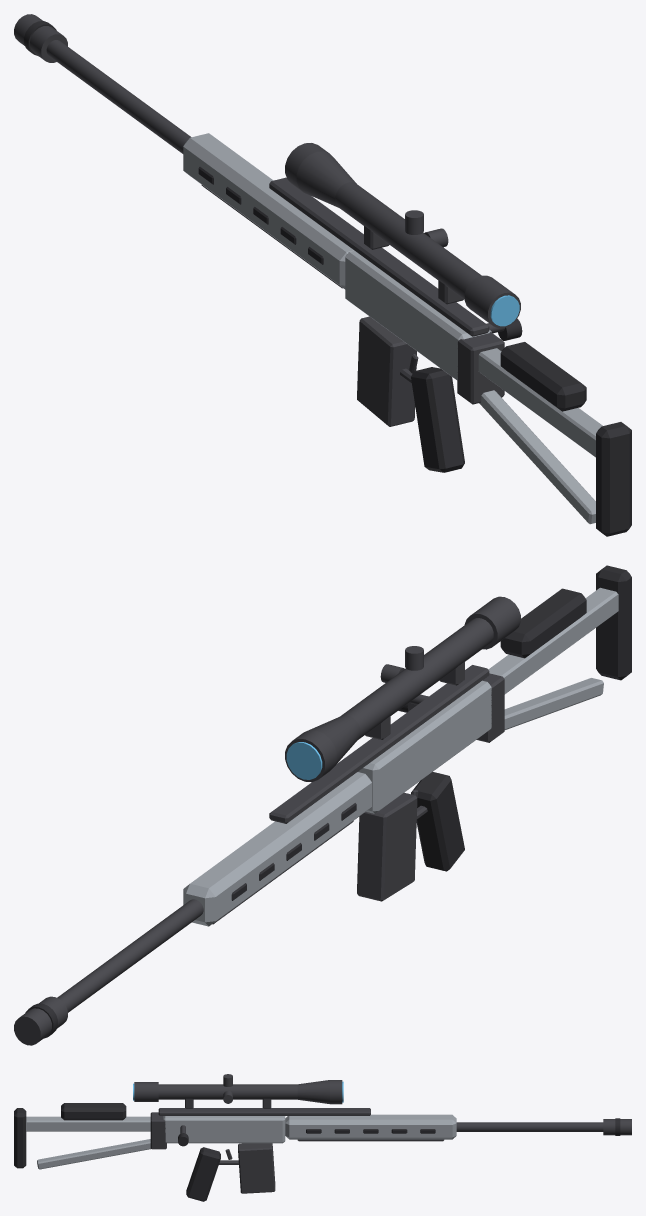
File: Arbalest.fbx
3 renders of one model, top to bottom at view 1: azimuth 30°, elevation 25°; view 2: azimuth 150°, elevation 25°; view 3: azimuth 270°, elevation 25°, orthographic. The views are drawn at different scales.
Parts seen in each view (by area): view 1: Arbalest; view 2: Arbalest; view 3: Arbalest.
Part boxes in pixels (x1,y1,x2,y2): Arbalest: (14,14,631,536); Arbalest: (14,565,631,1045); Arbalest: (14,1074,631,1201).
Bounding box in the file's own units: 0.1175 × 0.334 × 1.51.
